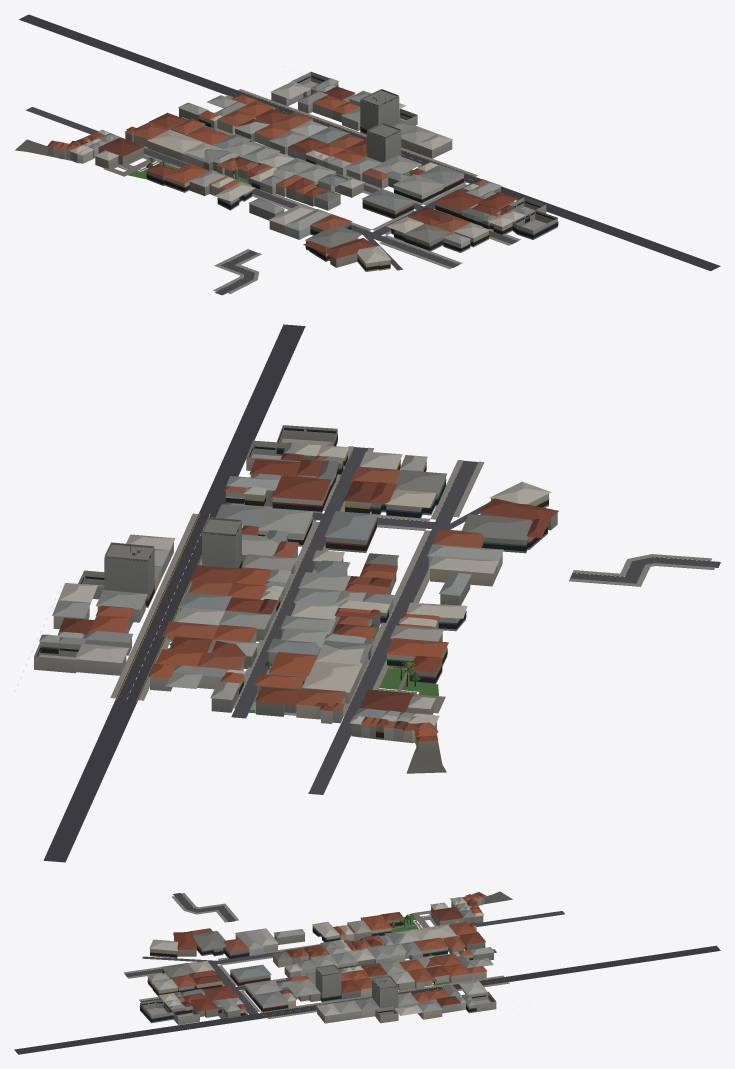
3 renders of one model, top to bottom at view 1: azimuth 30°, elevation 25°; view 2: azimuth 150°, elevation 25°; view 3: azimuth 270°, elevation 25°, orthographic. The views are drawn at different scales.
Parts seen in each view (by area): view 1: Buildings__r-10c-10-col, Roads_Major__r-10c-10, Sidewalks__r-10c-10-col, Roads_Minor__r-10c-10, Windows__r-10c-10, Hamersons Hotel-col, Hotel Plus-col, Dynasty Tourist Inn-col, Angus Dan’s-col, Landuse__r-10c-10, Footways__r-10c-10; view 2: Buildings__r-10c-10-col, Roads_Major__r-10c-10, Roads_Minor__r-10c-10, Sidewalks__r-10c-10-col, Windows__r-10c-10, Hamersons Hotel-col, Hotel Plus-col, Dynasty Tourist Inn-col, Landuse__r-10c-10; view 3: Buildings__r-10c-10-col, Roads_Major__r-10c-10, Roads_Minor__r-10c-10, Sidewalks__r-10c-10-col, Windows__r-10c-10, Hotel Plus-col, Hamersons Hotel-col, Dynasty Tourist Inn-col, Angus Dan’s-col, Landuse__r-10c-10, Footways__r-10c-10.
Boxes of the visible parts, bbox=[...] form: Buildings__r-10c-10-col: bbox=[47, 71, 557, 271]; Roads_Major__r-10c-10: bbox=[19, 14, 720, 271]; Sidewalks__r-10c-10-col: bbox=[140, 89, 520, 293]; Roads_Minor__r-10c-10: bbox=[25, 107, 517, 295]; Windows__r-10c-10: bbox=[146, 76, 558, 270]; Hamersons Hotel-col: bbox=[360, 89, 399, 134]; Hotel Plus-col: bbox=[366, 123, 401, 162]; Dynasty Tourist Inn-col: bbox=[305, 226, 362, 250]; Angus Dan’s-col: bbox=[419, 164, 464, 193]; Landuse__r-10c-10: bbox=[15, 139, 355, 183]; Footways__r-10c-10: bbox=[103, 155, 159, 176]; Buildings__r-10c-10-col: bbox=[34, 425, 558, 752]; Roads_Major__r-10c-10: bbox=[43, 324, 305, 862]; Roads_Minor__r-10c-10: bbox=[231, 447, 720, 794]; Sidewalks__r-10c-10-col: bbox=[110, 446, 714, 716]; Windows__r-10c-10: bbox=[36, 428, 549, 737]; Hamersons Hotel-col: bbox=[104, 542, 154, 607]; Hotel Plus-col: bbox=[202, 517, 242, 568]; Dynasty Tourist Inn-col: bbox=[462, 514, 532, 553]; Landuse__r-10c-10: bbox=[167, 498, 446, 773]; Buildings__r-10c-10-col: bbox=[140, 892, 496, 1024]; Roads_Major__r-10c-10: bbox=[14, 945, 720, 1054]; Roads_Minor__r-10c-10: bbox=[125, 893, 564, 1014]; Sidewalks__r-10c-10-col: bbox=[123, 893, 509, 1019]; Windows__r-10c-10: bbox=[139, 921, 493, 1022]; Hotel Plus-col: bbox=[315, 964, 341, 1002]; Hamersons Hotel-col: bbox=[372, 975, 398, 1008]; Dynasty Tourist Inn-col: bbox=[193, 931, 225, 956]; Angus Dan’s-col: bbox=[253, 991, 288, 1011]; Landuse__r-10c-10: bbox=[218, 891, 512, 1018]; Footways__r-10c-10: bbox=[391, 910, 437, 932].
Bounding box in the file's own units: 299 × 25.09 × 546.
